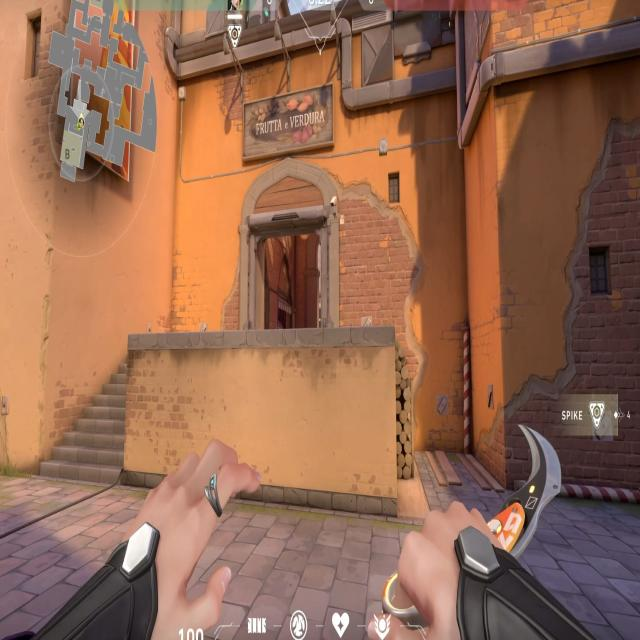B_Cubby: (376, 309, 500, 512)
